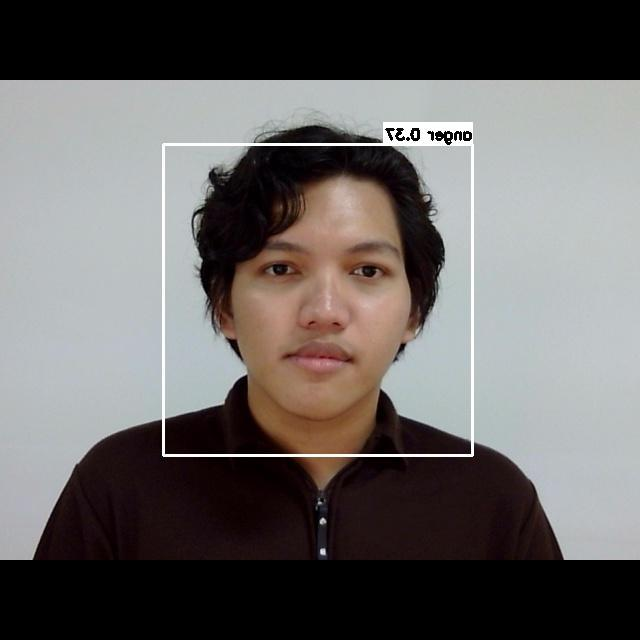Natural: (220, 225, 453, 429)
